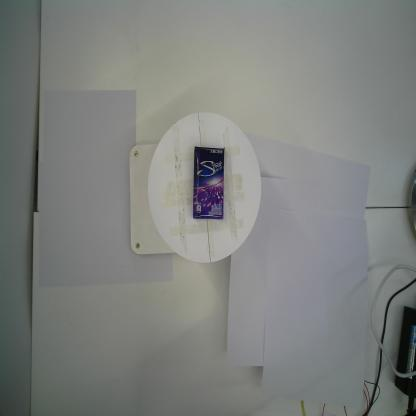Gum: (192, 146, 225, 221)
